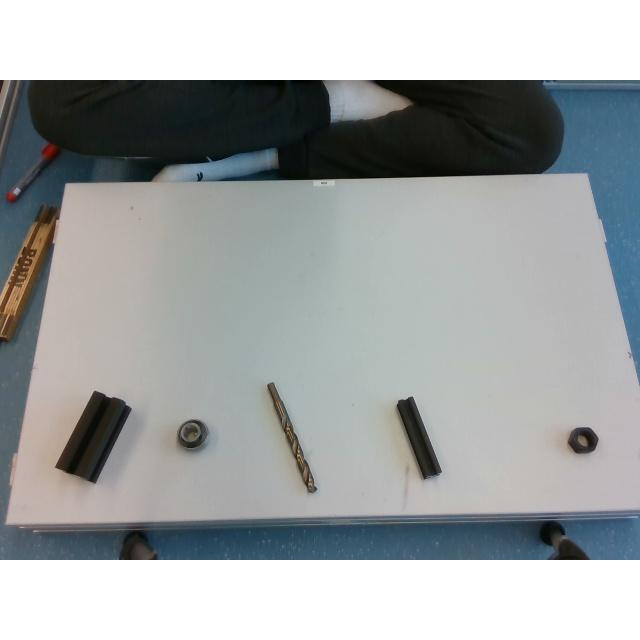Bearing2: (178, 419, 206, 448)
Drill: (267, 383, 317, 492)
F20_20_B: (397, 396, 441, 478)
M20: (568, 427, 596, 453)
S40_40_B: (56, 391, 130, 482)
